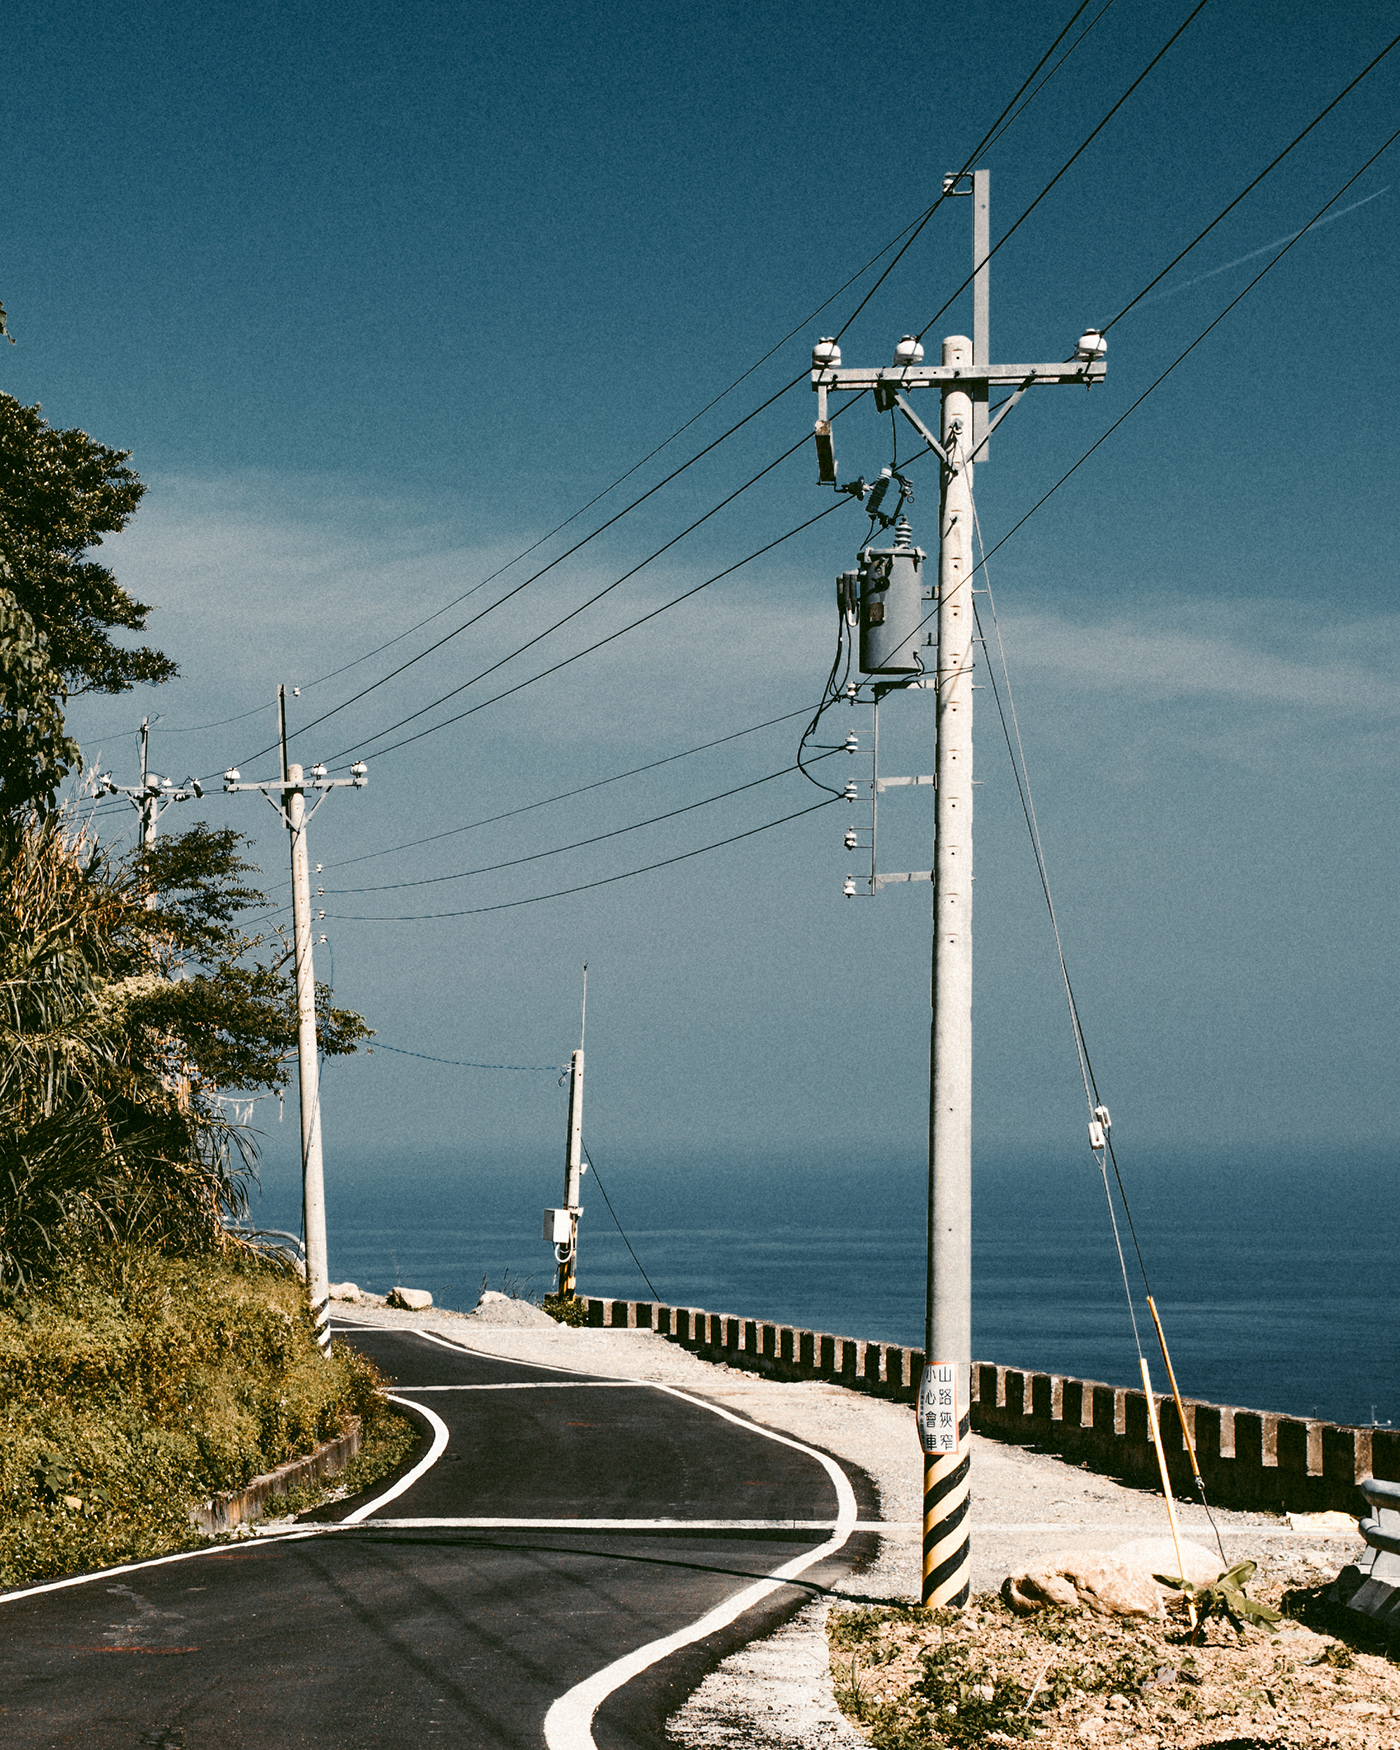pole: (754, 145, 1105, 1636), (203, 732, 414, 1421), (514, 985, 609, 1336)
